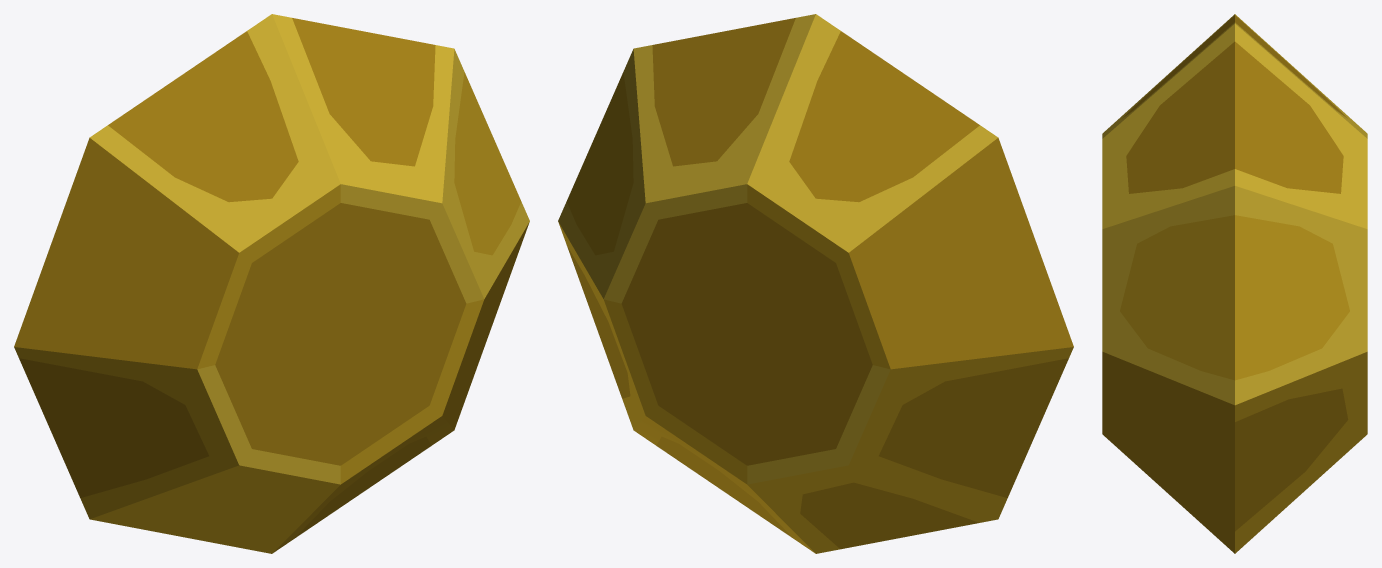
Rendered from SM_Prop_Treasure_Gem_03.fbx.
3 views of the same model, side by side, from view 1: azimuth 30°, elevation 25°; view 2: azimuth 150°, elevation 25°; view 3: azimuth 270°, elevation 25° (orthographic). The views are drawn at different scales.
Visible parts, largest first — view 1: SM_Prop_Treasure_Gem_03; view 2: SM_Prop_Treasure_Gem_03; view 3: SM_Prop_Treasure_Gem_03.
Part boxes in pixels (x1=…): SM_Prop_Treasure_Gem_03: x1=14, y1=14, x2=529, y2=553; SM_Prop_Treasure_Gem_03: x1=558, y1=14, x2=1073, y2=553; SM_Prop_Treasure_Gem_03: x1=1102, y1=14, x2=1367, y2=553.
Bounding box in the file's own units: 12.37 × 12.37 × 5.71.
